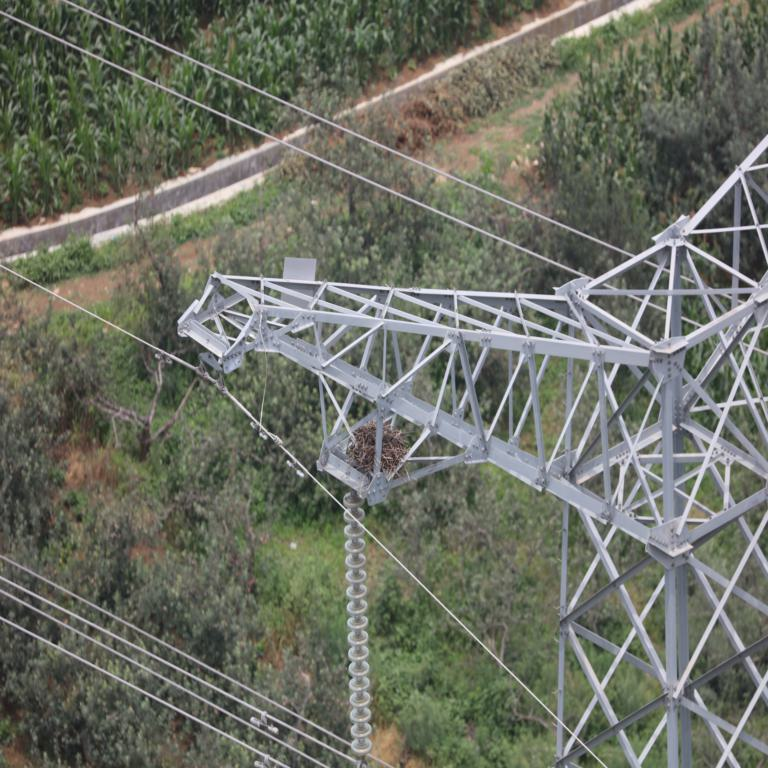nest: (345, 426, 404, 471)
